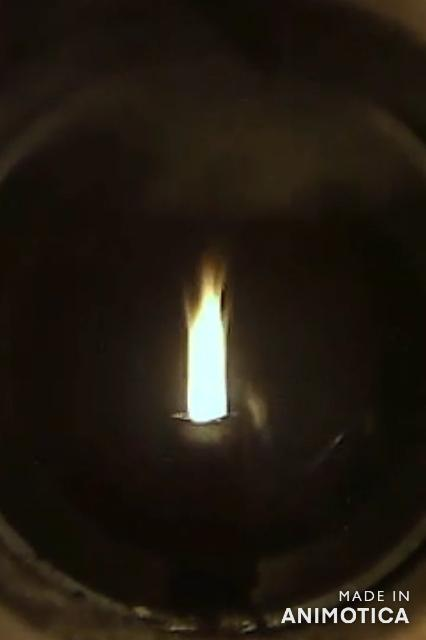burner flame: (175, 251, 239, 425)
